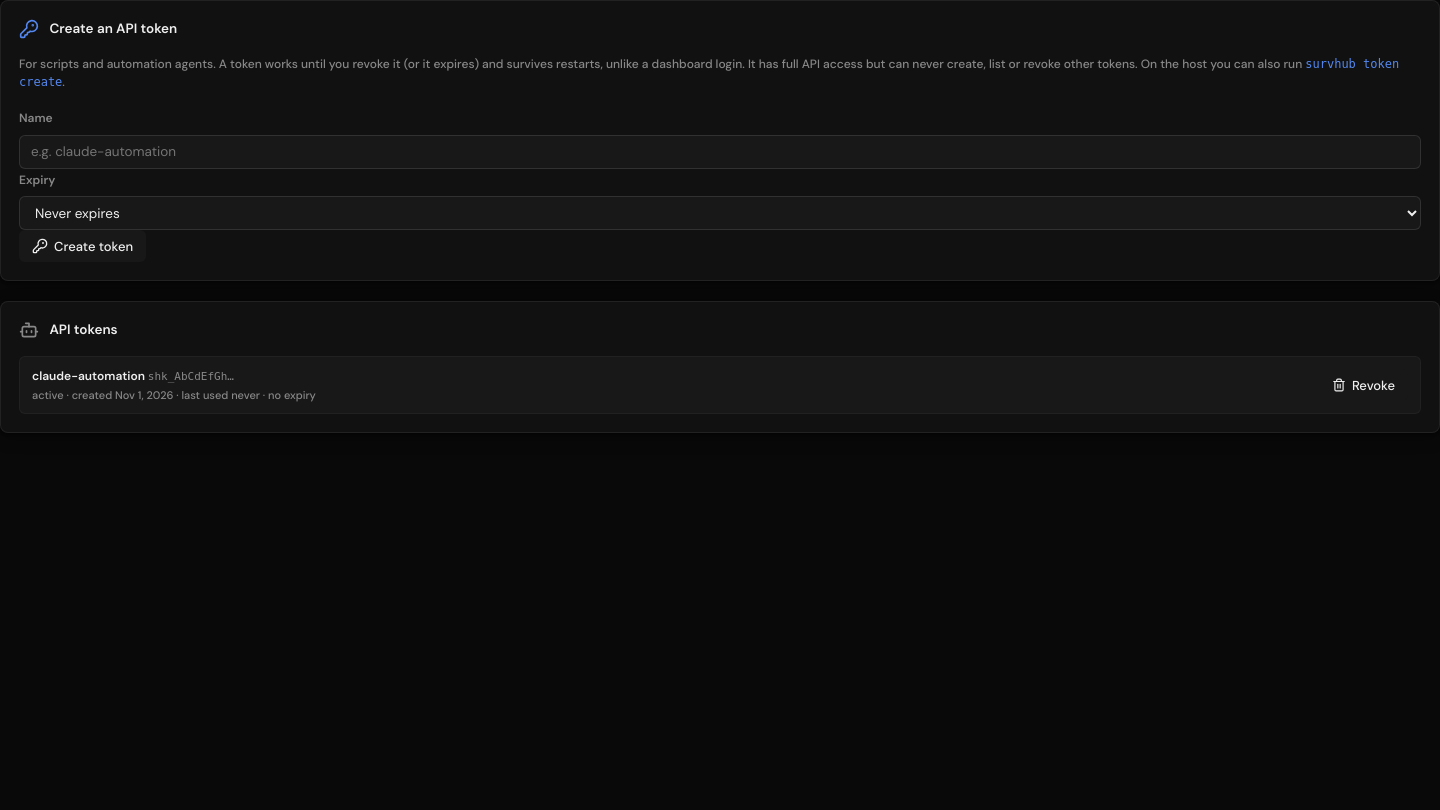
Test: Settings → API tokens › lists tokens without secrets and shows a new token once after creation
Expected: the text "claude-automation" is shown, x1=32 y1=368 x2=145 y2=384
Expected: the button "Revoke" is shown, x1=1319 y1=369 x2=1408 y2=401
In the field labelled "Name": (720, 152) x1=19 y1=135 x2=1421 y2=169, type "ci"
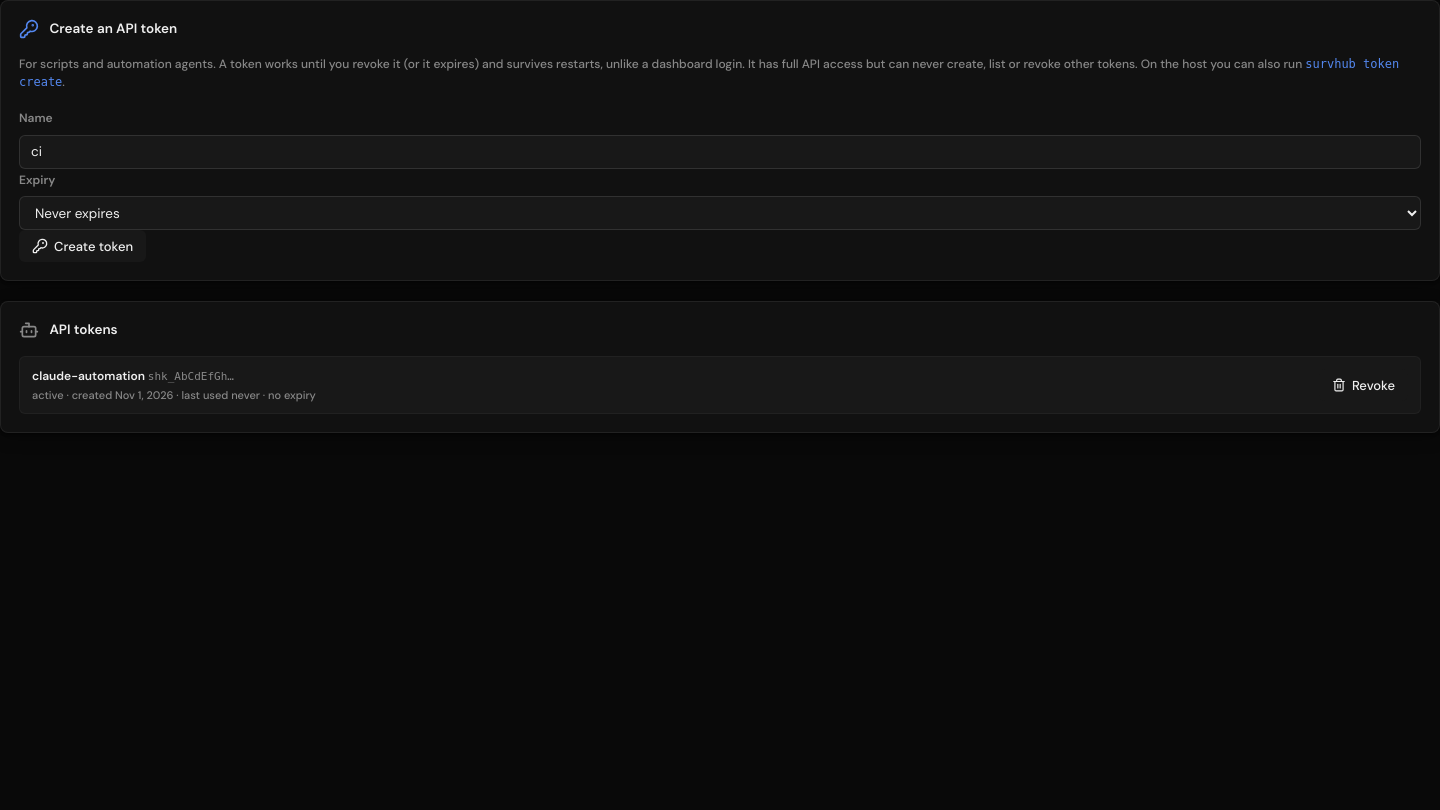
Select "90 days" in the dropdown labelled "Expiry": (720, 213) x1=19 y1=196 x2=1421 y2=230
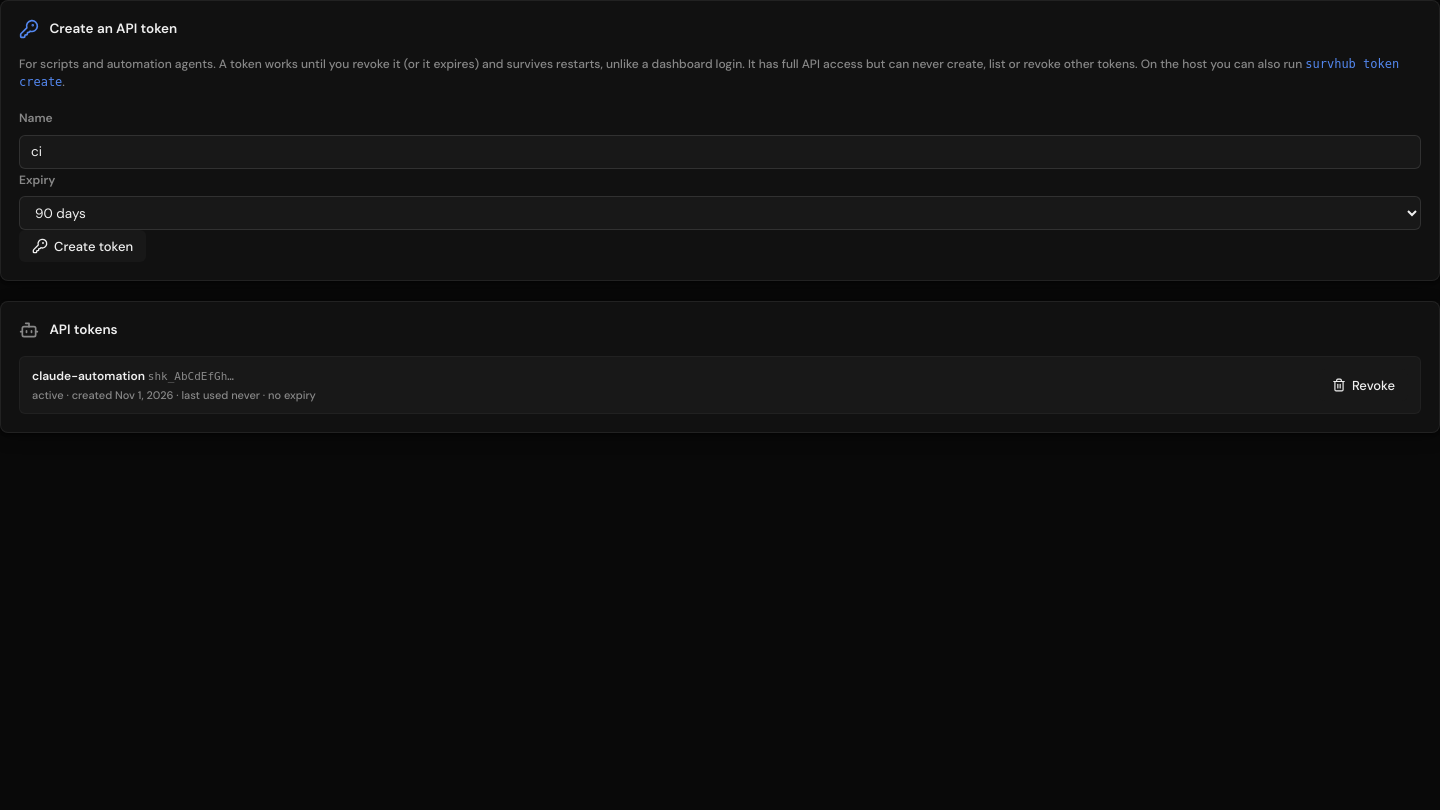
Click the button "Create token": (83, 246) x1=19 y1=230 x2=146 y2=262
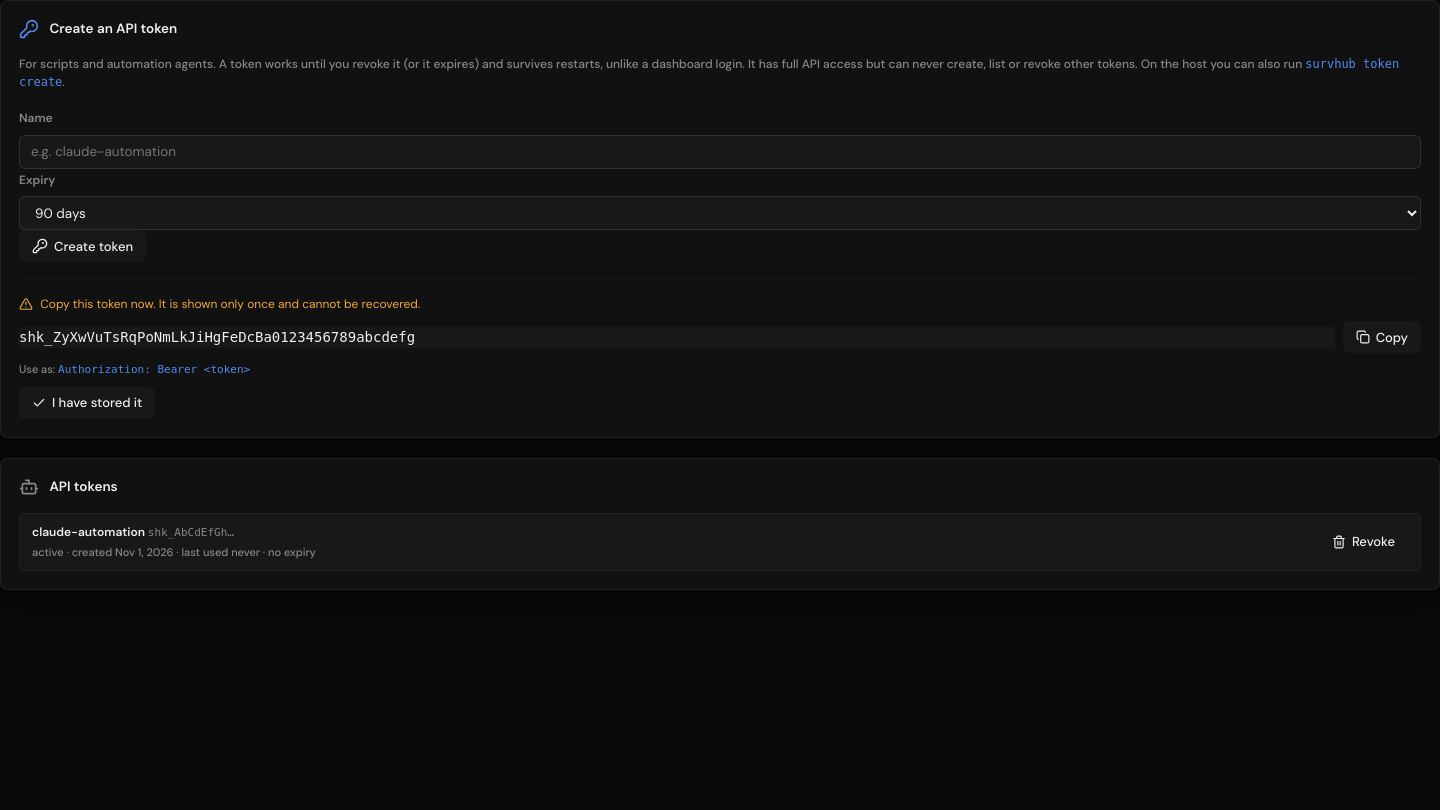
Expected: the text "shk_ZyXwVuTsRqPoNmLkJiHgFeDcBa0123456789abcdefg" is shown, x1=19 y1=328 x2=415 y2=344
Expected: the text "shown only once" is shown, x1=40 y1=296 x2=420 y2=312
Click the button "I have stored it": (87, 402) x1=19 y1=386 x2=155 y2=418
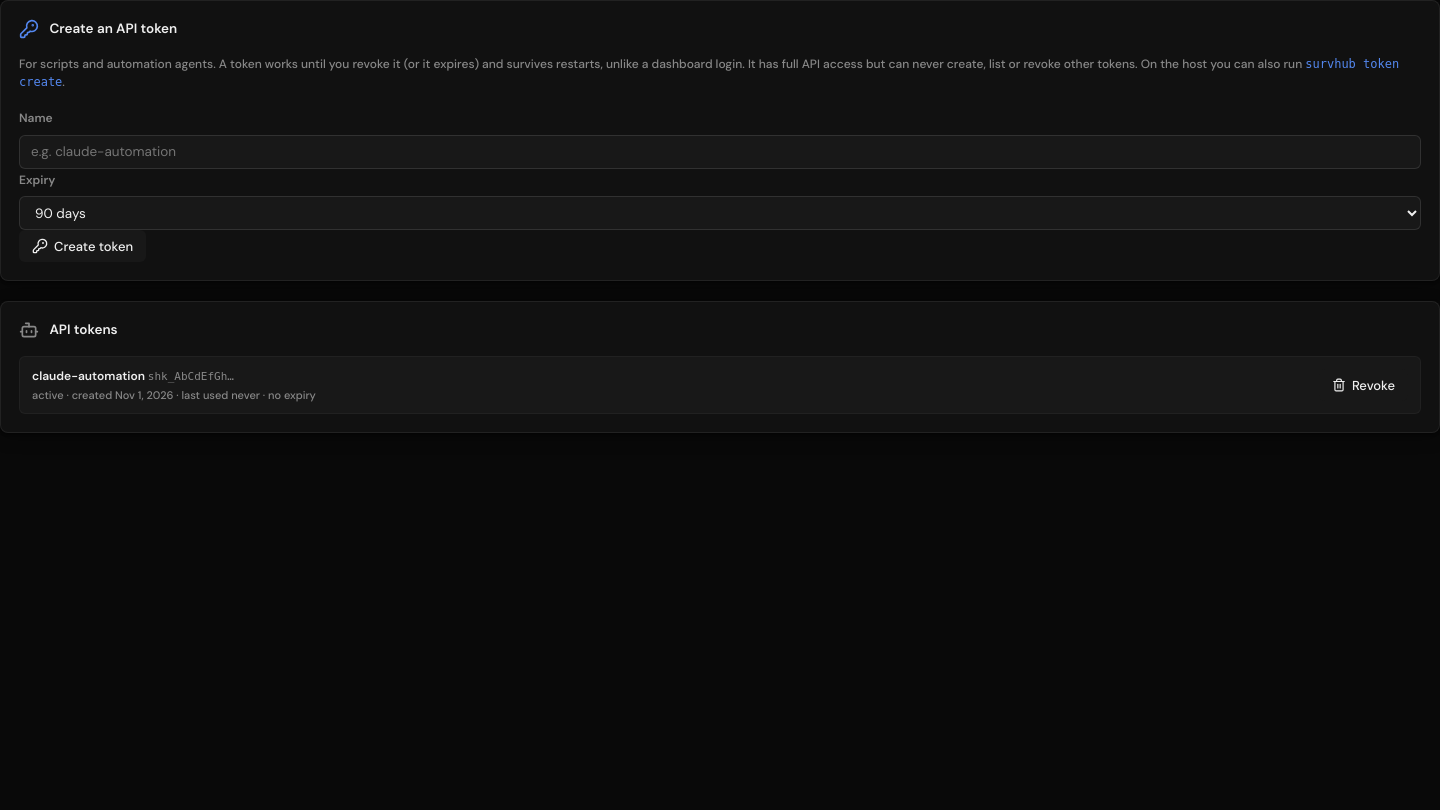
Expected: the text "shk_ZyXwVuTsRqPoNmLkJiHgFeDcBa0123456789abcdefg" is gone
